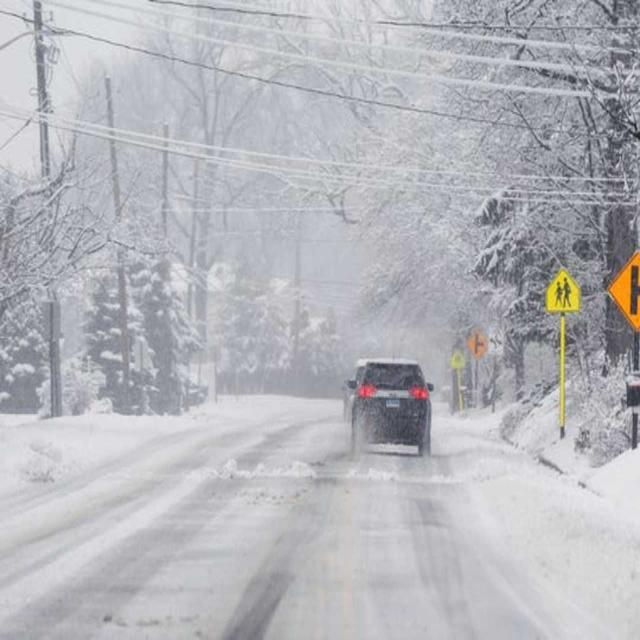car: (345, 356, 433, 454)
